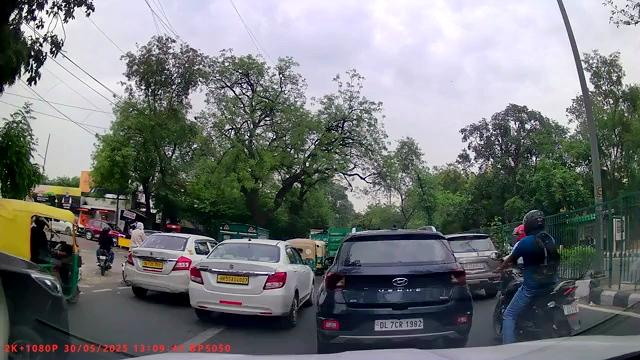motorcycle_with_helmet: (490, 209, 583, 342)
